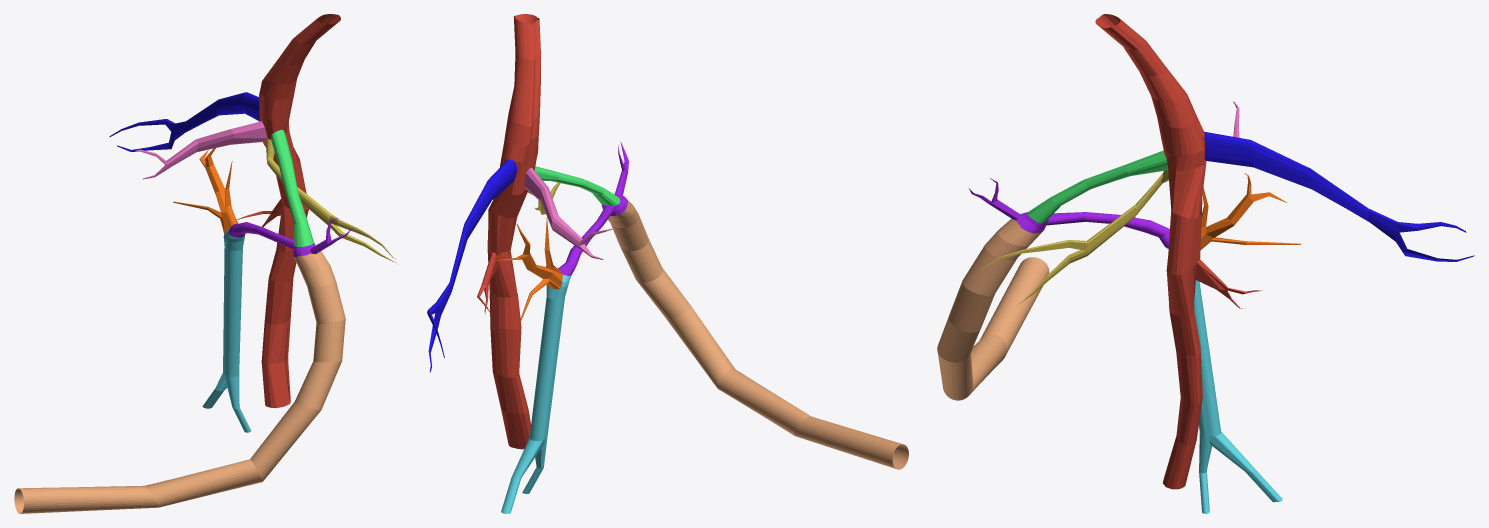
File: VeinsOpaquesingle.glb
3 views of the same model, side by side, from view 1: azimuth 30°, elevation 25°; view 2: azimuth 150°, elevation 25°; view 3: azimuth 270°, elevation 25° (orthographic). The views are drawn at different scales.
Parts seen in each view (by area): view 1: Circle; view 2: Circle; view 3: Circle.
Boxes of the visible parts, x1,y1,x2,y2 form: Circle: (14,14,398,513); Circle: (427,14,908,513); Circle: (937,14,1474,513).
Bounding box in the file's own units: 43.08 × 47.74 × 45.15.
